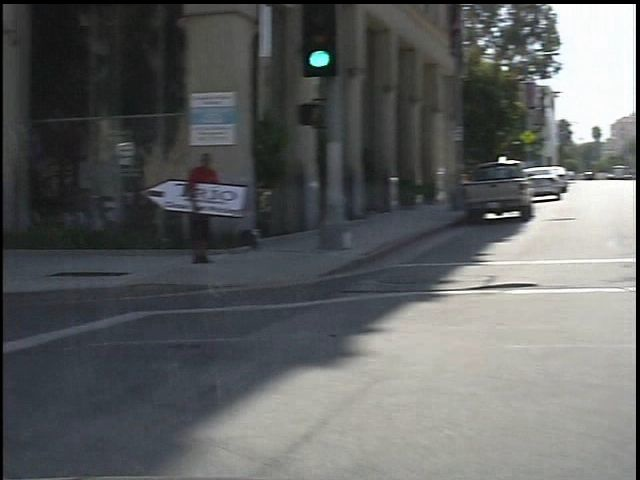person: (172, 149, 214, 273)
